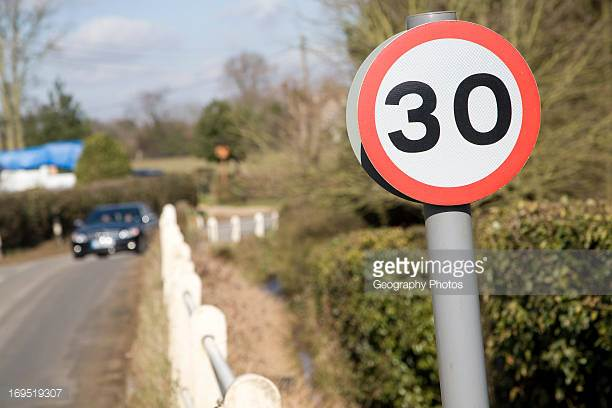Speed_limit_30km: (358, 19, 541, 208)
